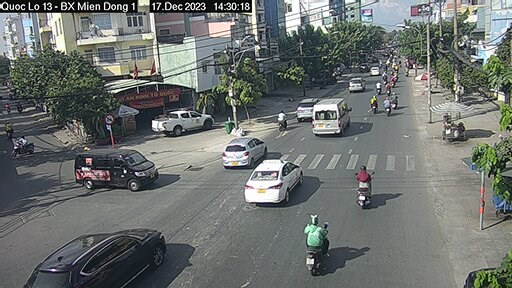car: (36, 229, 174, 288), (72, 147, 156, 191), (253, 159, 302, 203), (149, 107, 215, 135), (315, 98, 350, 136), (225, 136, 268, 166), (296, 93, 315, 123), (347, 75, 368, 98), (367, 65, 381, 80)
motorbike: (303, 217, 334, 273), (356, 168, 375, 207), (382, 96, 394, 120), (370, 94, 382, 116)
